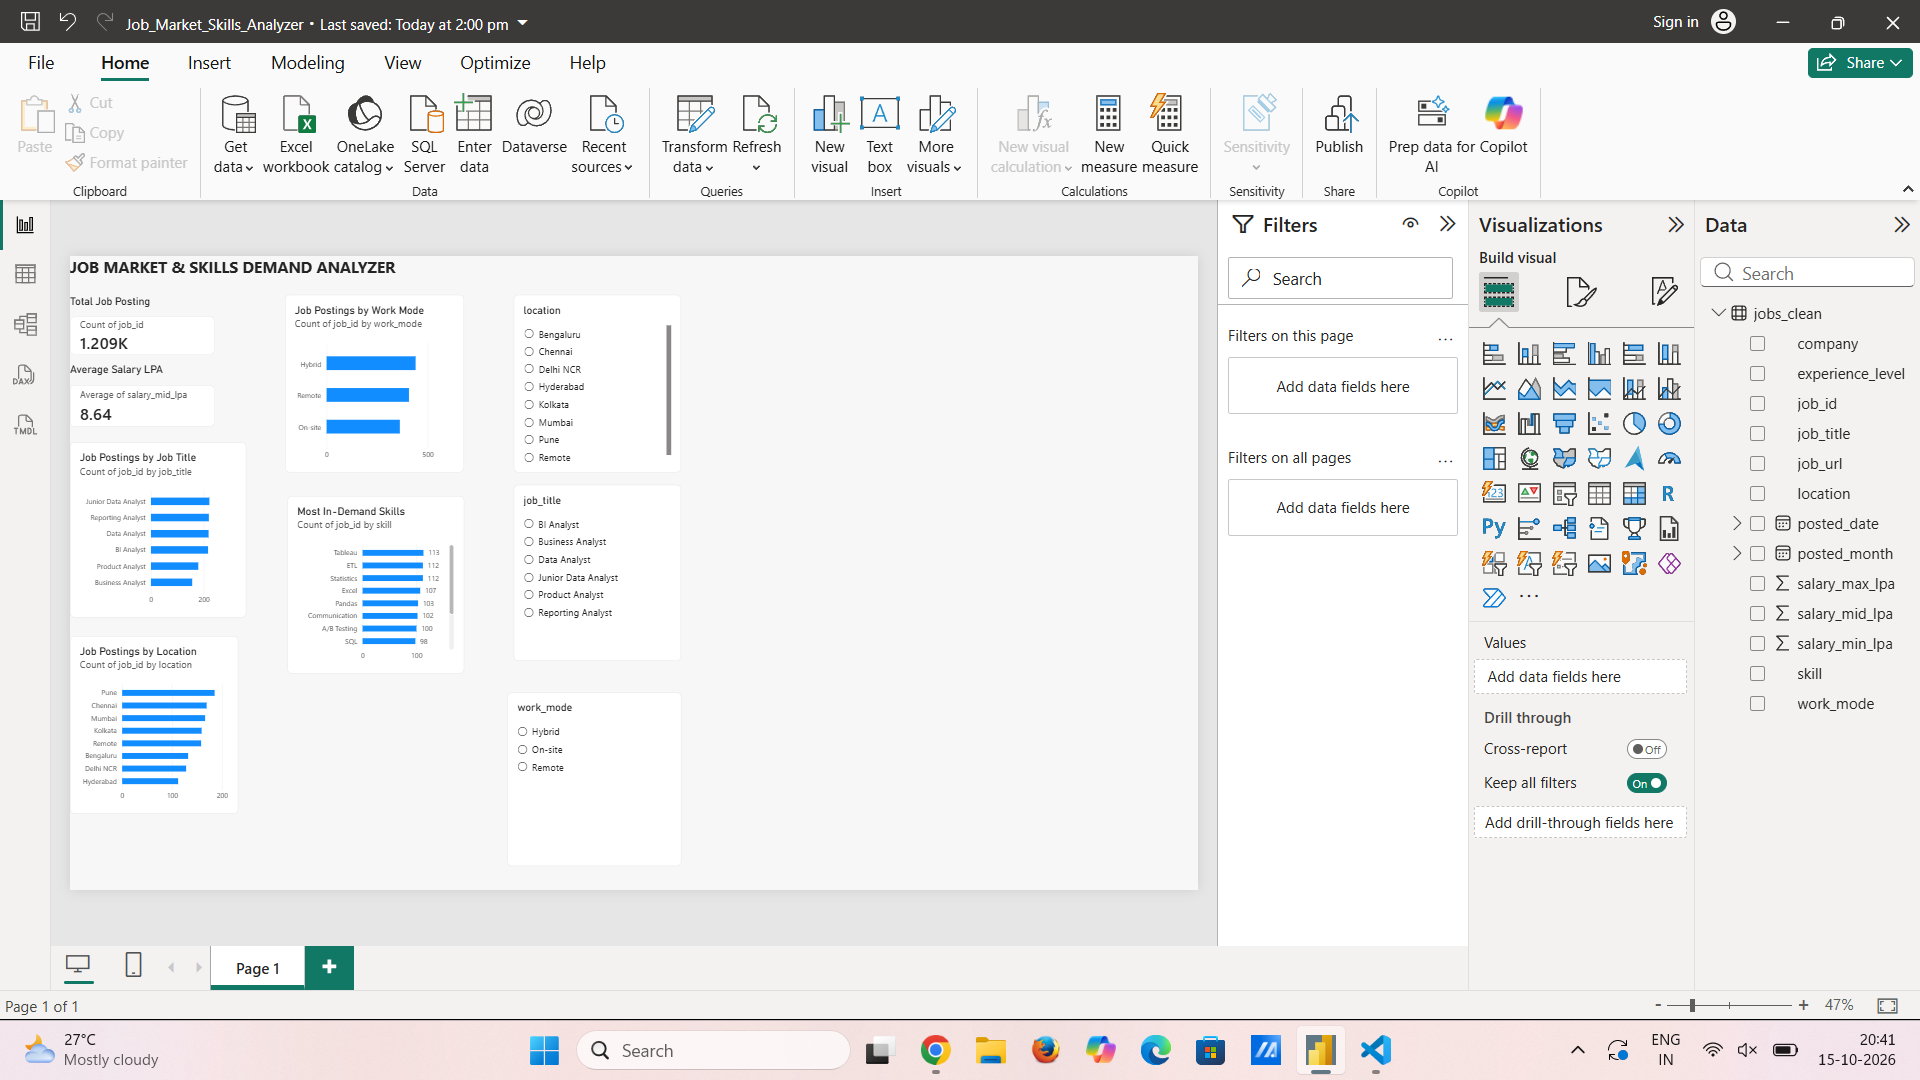

The dashboard page shown, as its layout file describes it:
{"tool":"powerbi","page":{"name":"Page 1","canvas":[1920,1080],"ordinal":0},"visuals":[{"type":"cardVisual","title":"Total Job Posting","fields":{"Data":["CountNonNull(jobs_clean.job_id)"]},"box":[0,66,246.8,102.1],"z":2000},{"type":"cardVisual","title":"Average Salary LPA","fields":{"Data":["Avg(jobs_clean.salary_mid_lpa)"]},"box":[0,183,246.8,108.5],"z":3000},{"type":"clusteredBarChart","title":"Job Postings by Job Title","fields":{"Category":["jobs_clean.job_title"],"Y":["CountNonNull(jobs_clean.job_id)"]},"box":[0,317,300,298],"z":4000},{"type":"clusteredBarChart","title":"Job Postings by Location","fields":{"Category":["jobs_clean.location"],"Y":["CountNonNull(jobs_clean.job_id)"]},"box":[0,646.8,286.1,302.6],"z":5000},{"type":"clusteredBarChart","title":"Job Postings by Work Mode","fields":{"Category":["jobs_clean.work_mode"],"Y":["CountNonNull(jobs_clean.job_id)"]},"box":[366,66,304.6,302.6],"z":6000},{"type":"clusteredBarChart","title":"Most In-Demand Skills","fields":{"Category":["jobs_clean.skills"],"Y":["CountNonNull(jobs_clean.job_id)"]},"box":[370.2,408.5,300.5,302.6],"z":7000},{"type":"textbox","box":[0,0,642.6,61.7],"z":8001},{"type":"listSlicer","fields":{"Values":["jobs_clean.location"]},"box":[755.3,66,285.1,302.1],"z":8002},{"type":"listSlicer","fields":{"Values":["jobs_clean.job_title"]},"box":[755.3,389.4,285.1,300],"z":8003},{"type":"listSlicer","fields":{"Values":["jobs_clean.work_mode"]},"box":[744.7,742.6,295.7,295.7],"z":8004}]}

Visuals, with their boxes on the page's 1920x1080 design canvas (x1, y1, x2, y2). These are canvas units, not pixel positions in the 1920x1080 screenshot, which may show the page scaled, cropped or inside an application window:
"Total Job Posting" cardVisual: x1=0 y1=66 x2=247 y2=168
"Average Salary LPA" cardVisual: x1=0 y1=183 x2=247 y2=292
"Job Postings by Job Title" clusteredBarChart: x1=0 y1=317 x2=300 y2=615
"Job Postings by Location" clusteredBarChart: x1=0 y1=647 x2=286 y2=949
"Job Postings by Work Mode" clusteredBarChart: x1=366 y1=66 x2=671 y2=369
"Most In-Demand Skills" clusteredBarChart: x1=370 y1=408 x2=671 y2=711
textbox: x1=0 y1=0 x2=643 y2=62
listSlicer - jobs_clean.location: x1=755 y1=66 x2=1040 y2=368
listSlicer - jobs_clean.job_title: x1=755 y1=389 x2=1040 y2=689
listSlicer - jobs_clean.work_mode: x1=745 y1=743 x2=1040 y2=1038
